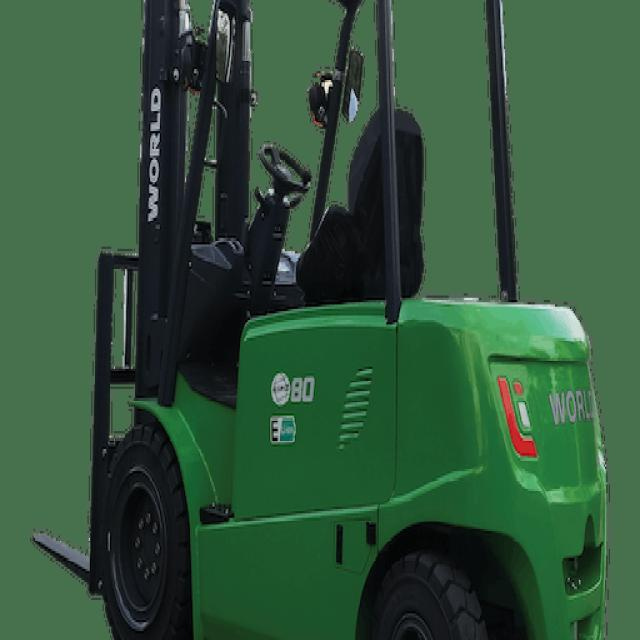forklift: (68, 16, 610, 640)
